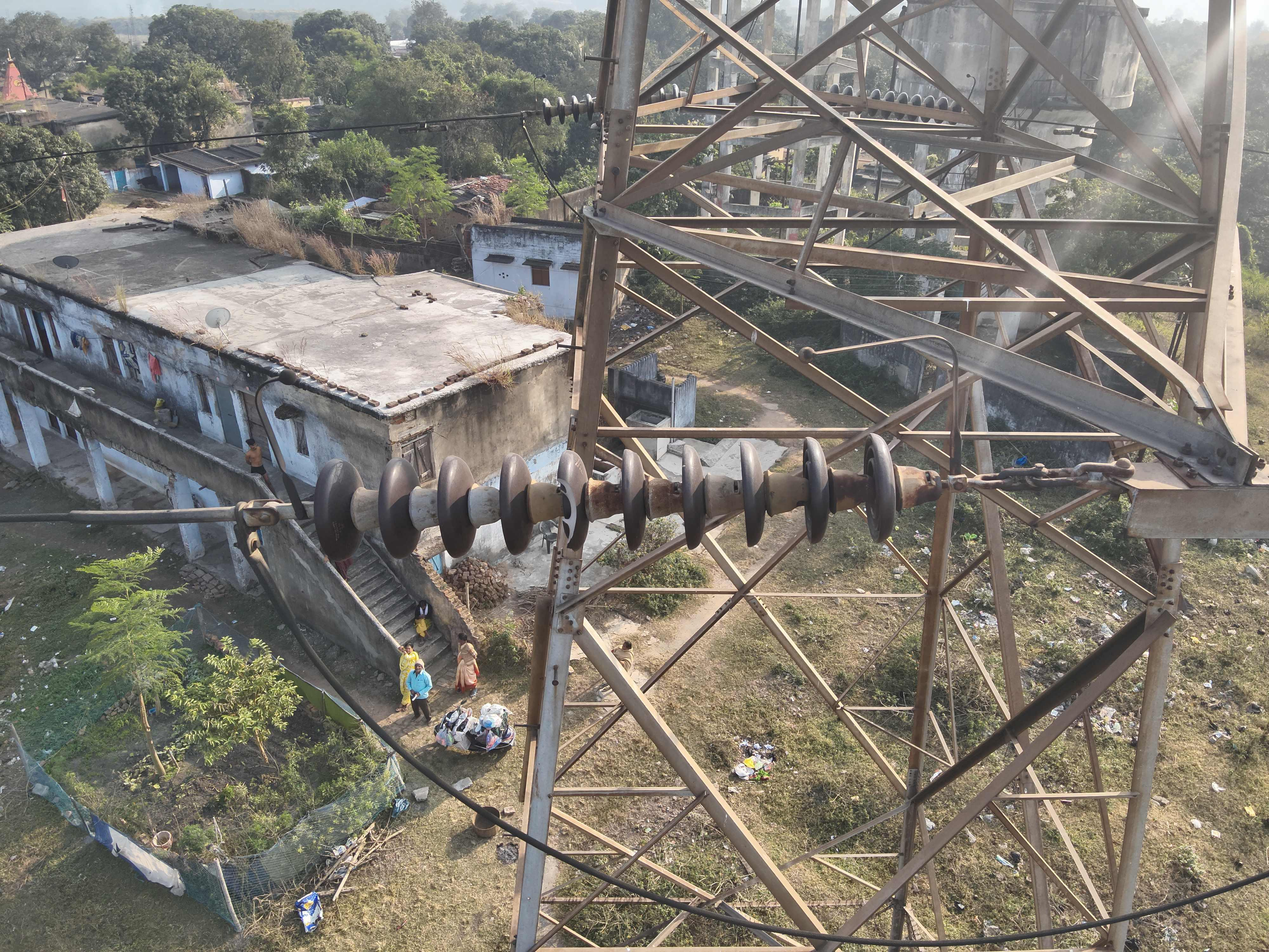broken_insulator: (556, 449, 591, 552)
